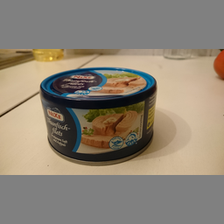fish: (39, 66, 158, 167)
